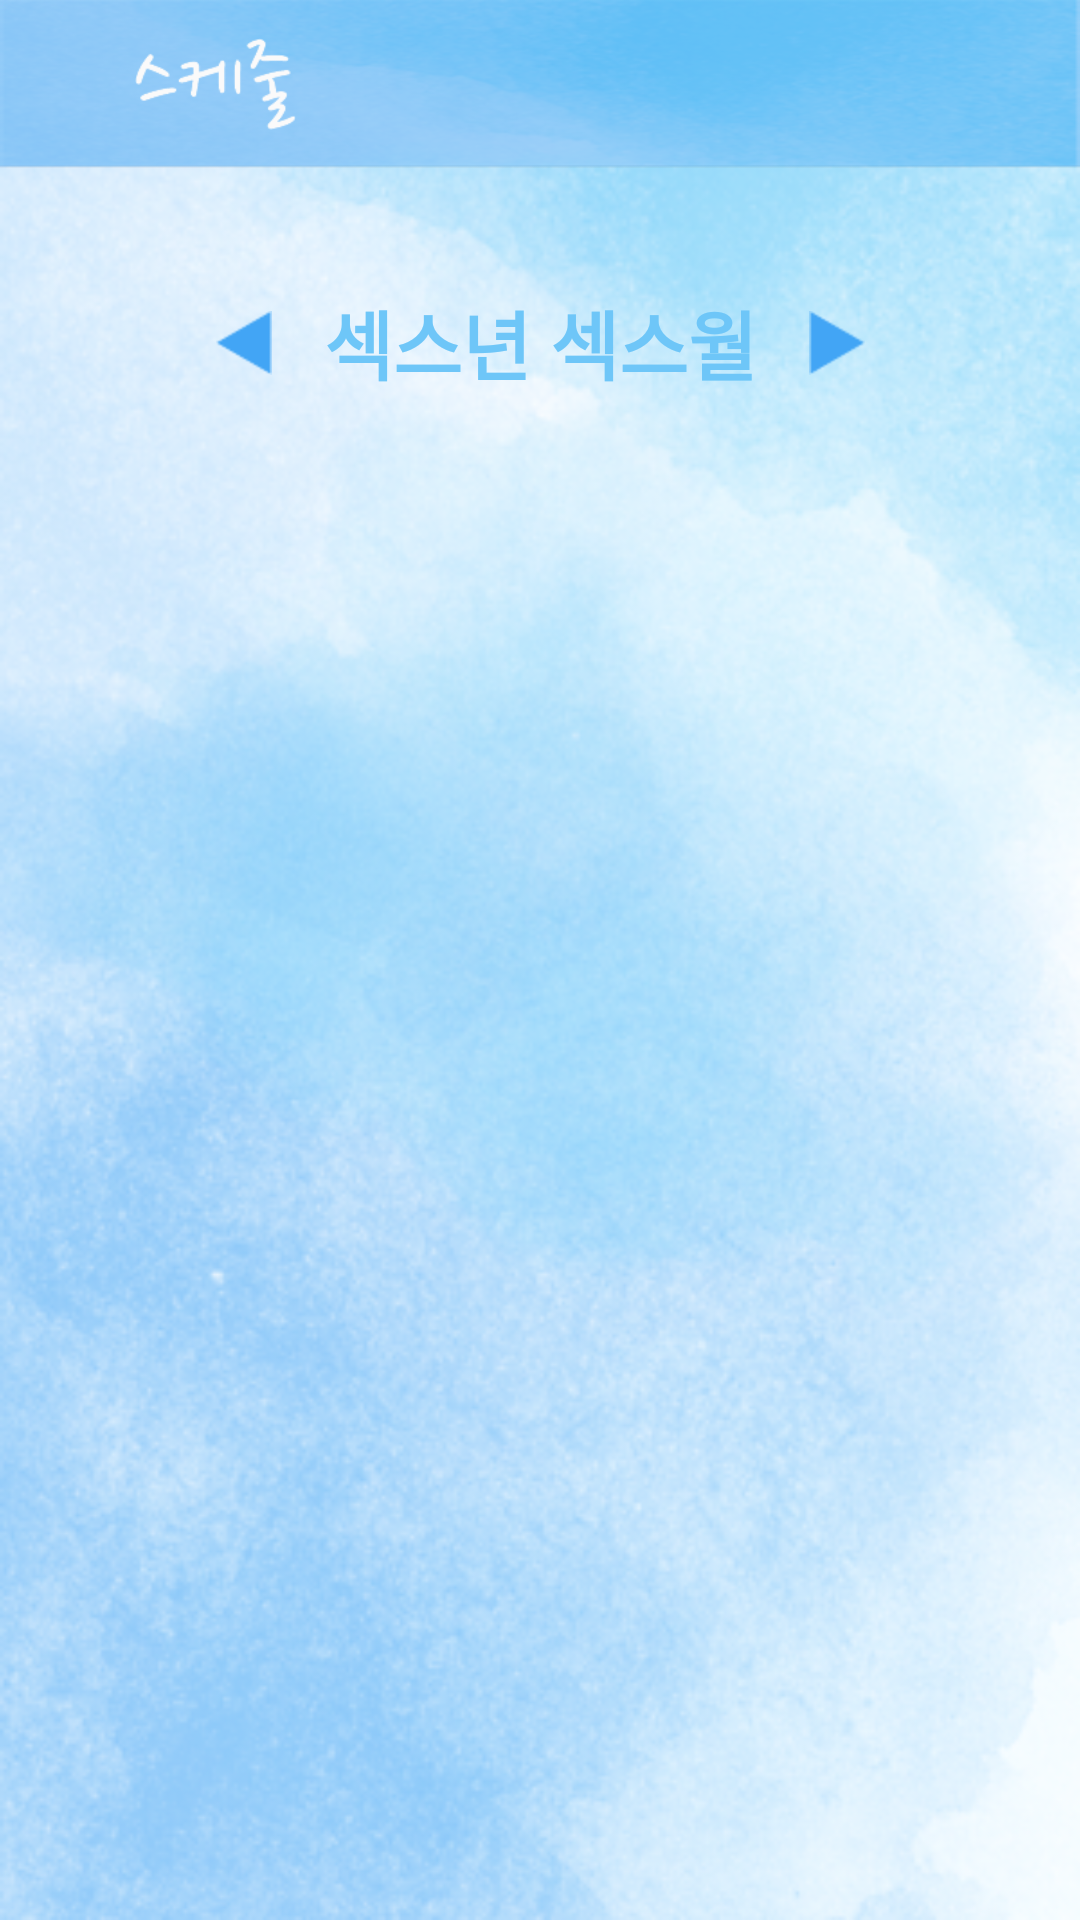

Icon click points for this 1080 × 1920 phone screenshot, format (x=x, y=y):
month back: (x=244, y=342)
